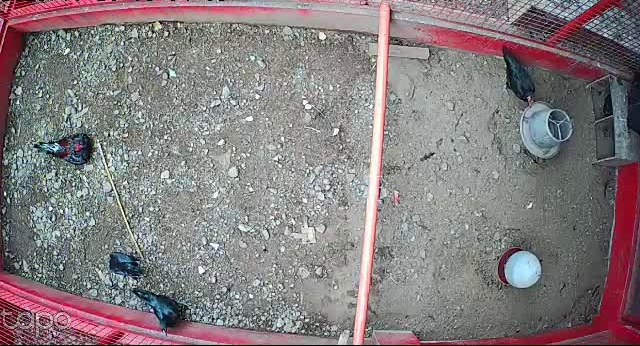Chicken: (126, 283, 184, 336), (496, 44, 537, 107), (107, 249, 151, 279)
Drinker: (494, 245, 546, 290)
Feeder: (519, 97, 574, 161)
Rooster: (32, 130, 105, 168)
